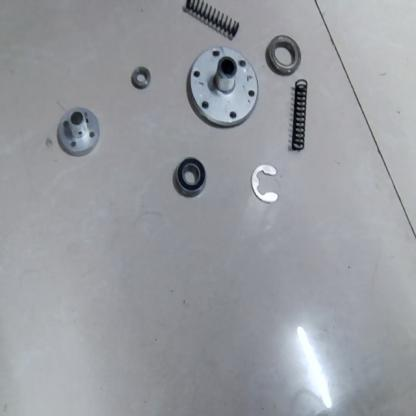FOD: (186, 44, 259, 127), (55, 104, 102, 157), (182, 0, 242, 39), (284, 79, 312, 154), (266, 31, 303, 76), (172, 156, 208, 200), (250, 160, 280, 209), (129, 64, 152, 93)
